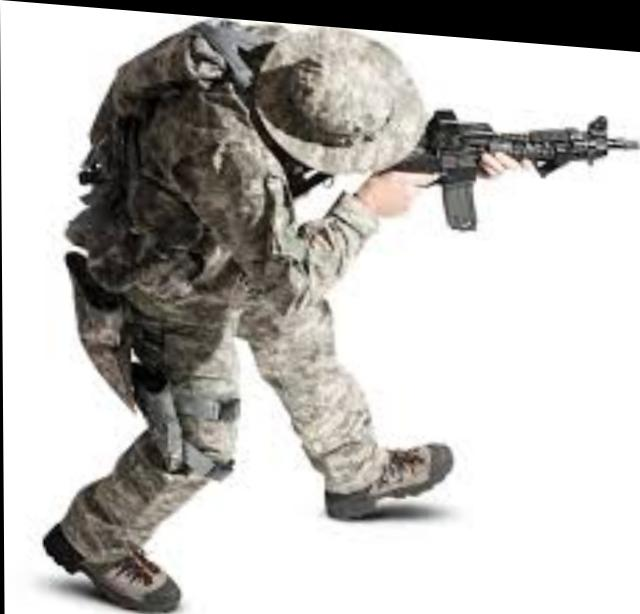other: (66, 4, 431, 605)
